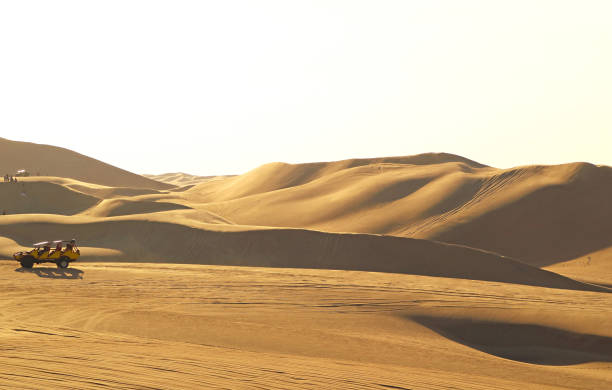vehicle_track: (0, 262, 609, 389), (399, 168, 530, 236)
